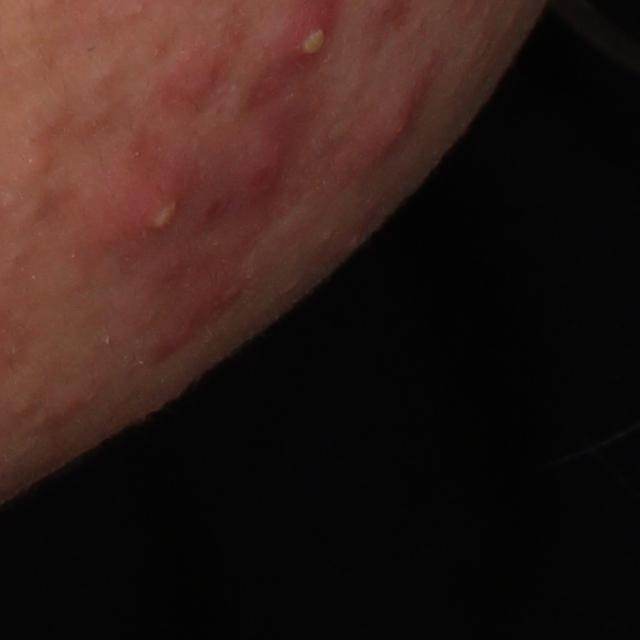papule: (214, 120, 305, 233), (351, 73, 431, 176), (153, 42, 229, 140)
pustule: (118, 165, 195, 261)
